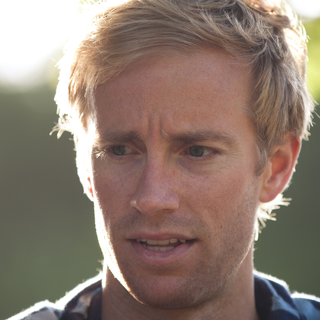eye: (172, 139, 226, 163), (96, 140, 147, 161)
